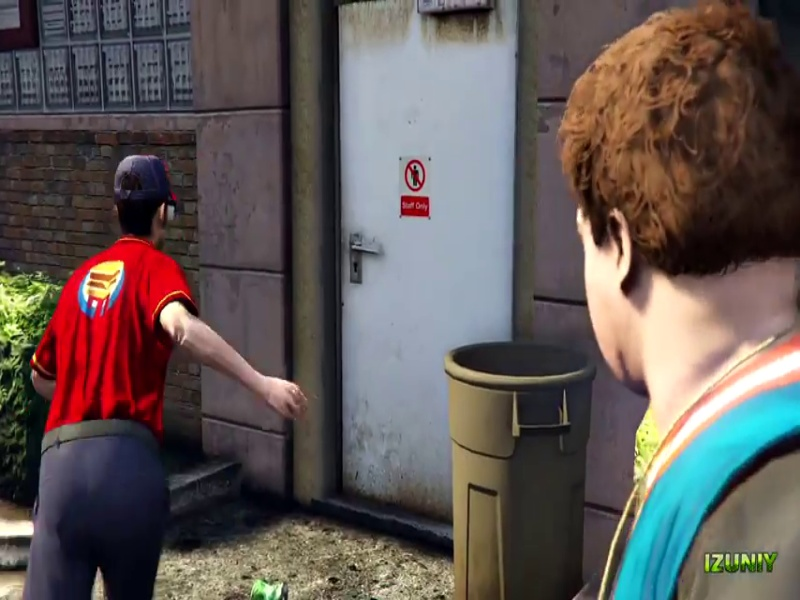licenseplate: (316, 30, 592, 145)
